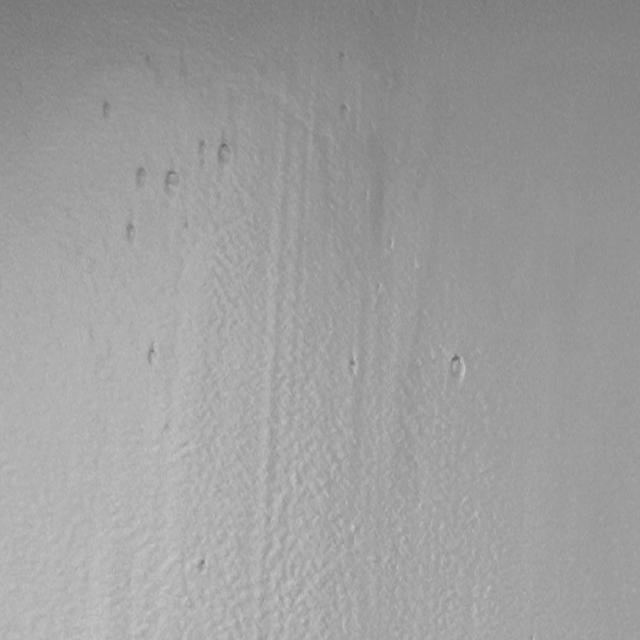pin holes: (445, 353, 469, 387), (163, 168, 184, 200), (131, 162, 152, 193), (214, 142, 234, 171), (122, 220, 141, 248), (144, 343, 164, 369), (98, 99, 118, 124), (336, 102, 356, 125), (346, 356, 363, 381), (194, 140, 210, 164), (195, 557, 209, 576), (336, 49, 350, 67)
